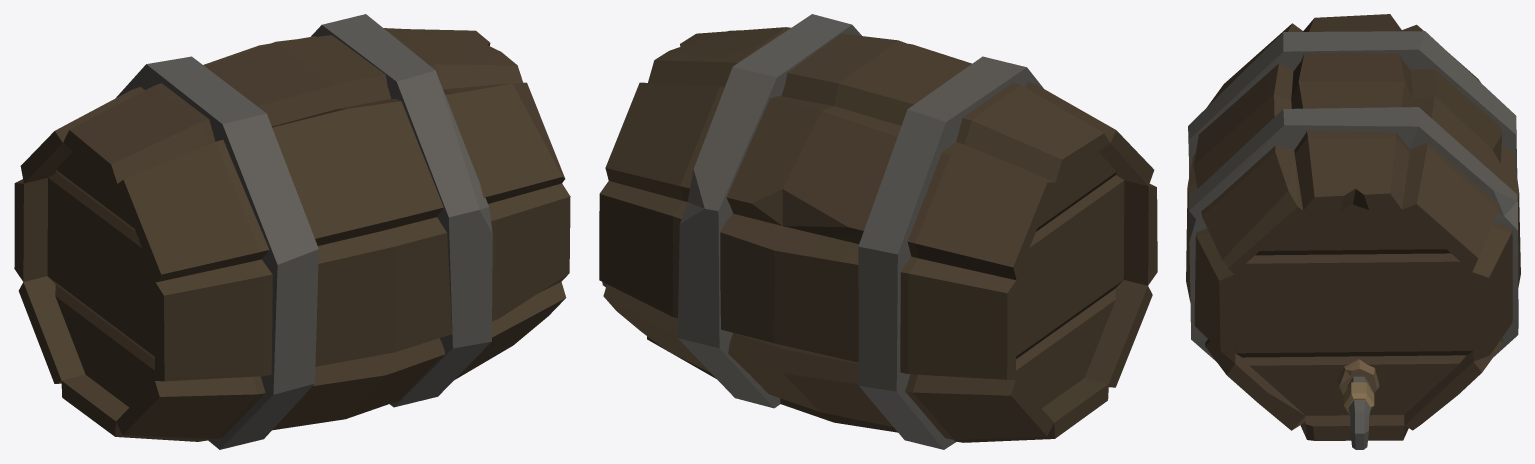
Rendered from SM_Prop_Barrel_Dispenser_Small_01.fbx.
3 views of the same model, side by side, from view 1: azimuth 30°, elevation 25°; view 2: azimuth 150°, elevation 25°; view 3: azimuth 270°, elevation 25° (orthographic). The views are drawn at different scales.
Parts seen in each view (by area): view 1: SM_Prop_Barrel_Dispenser_Small_01; view 2: SM_Prop_Barrel_Dispenser_Small_01; view 3: SM_Prop_Barrel_Dispenser_Small_01.
Boxes of the visible parts, x1=… form: SM_Prop_Barrel_Dispenser_Small_01: x1=14, y1=14, x2=570, y2=449; SM_Prop_Barrel_Dispenser_Small_01: x1=599, y1=14, x2=1157, y2=449; SM_Prop_Barrel_Dispenser_Small_01: x1=1186, y1=14, x2=1520, y2=449.
Bounding box in the file's own units: 106 × 71.76 × 71.76.
1 material, 1 textured.
